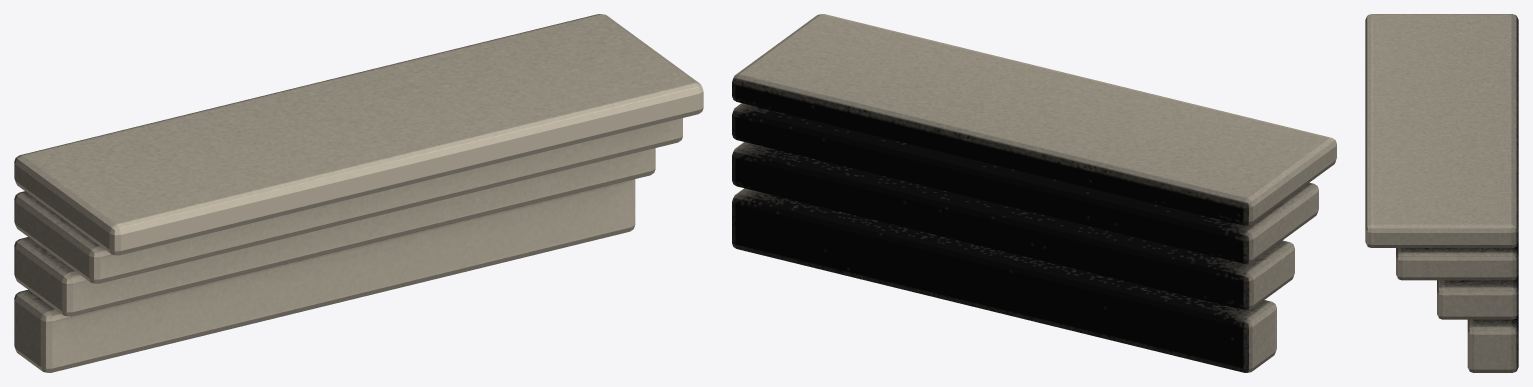
The model's file is gesims_modul.glb.
3 renders of one model, left to right at view 1: azimuth 30°, elevation 25°; view 2: azimuth 150°, elevation 25°; view 3: azimuth 270°, elevation 25°, orthographic. The views are drawn at different scales.
Parts seen in each view (by area): view 1: gesims_modul; view 2: gesims_modul; view 3: gesims_modul.
Part boxes in pixels (x1,y1,x2,y2): gesims_modul: (14,14,703,372); gesims_modul: (732,14,1336,372); gesims_modul: (1365,14,1518,372).
Bounding box in the file's own units: 1 × 0.32 × 0.3.
Materials: 1 (1 with a texture image).
